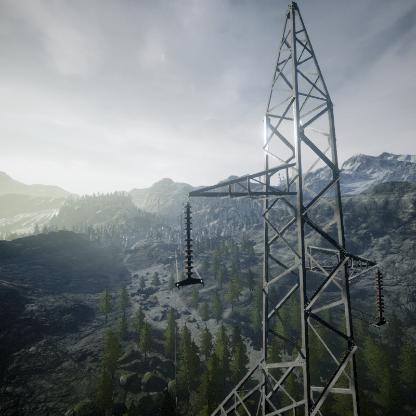insulator: (179, 202, 197, 277), (372, 268, 386, 321)
